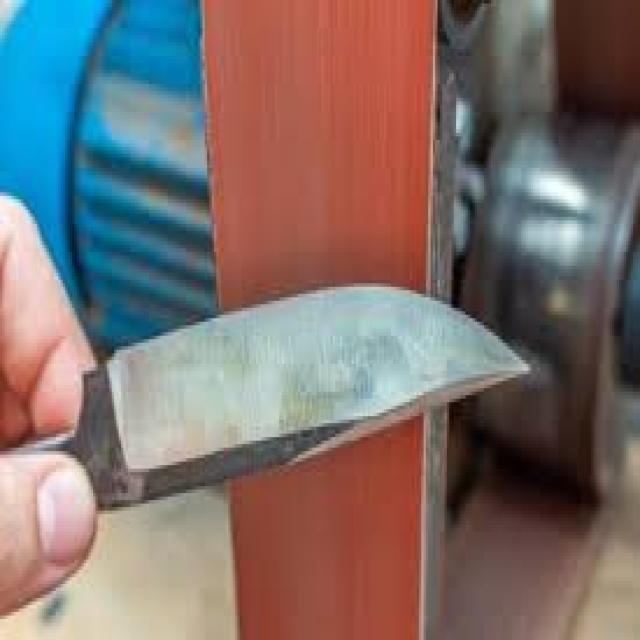Knife: (23, 287, 526, 504)
